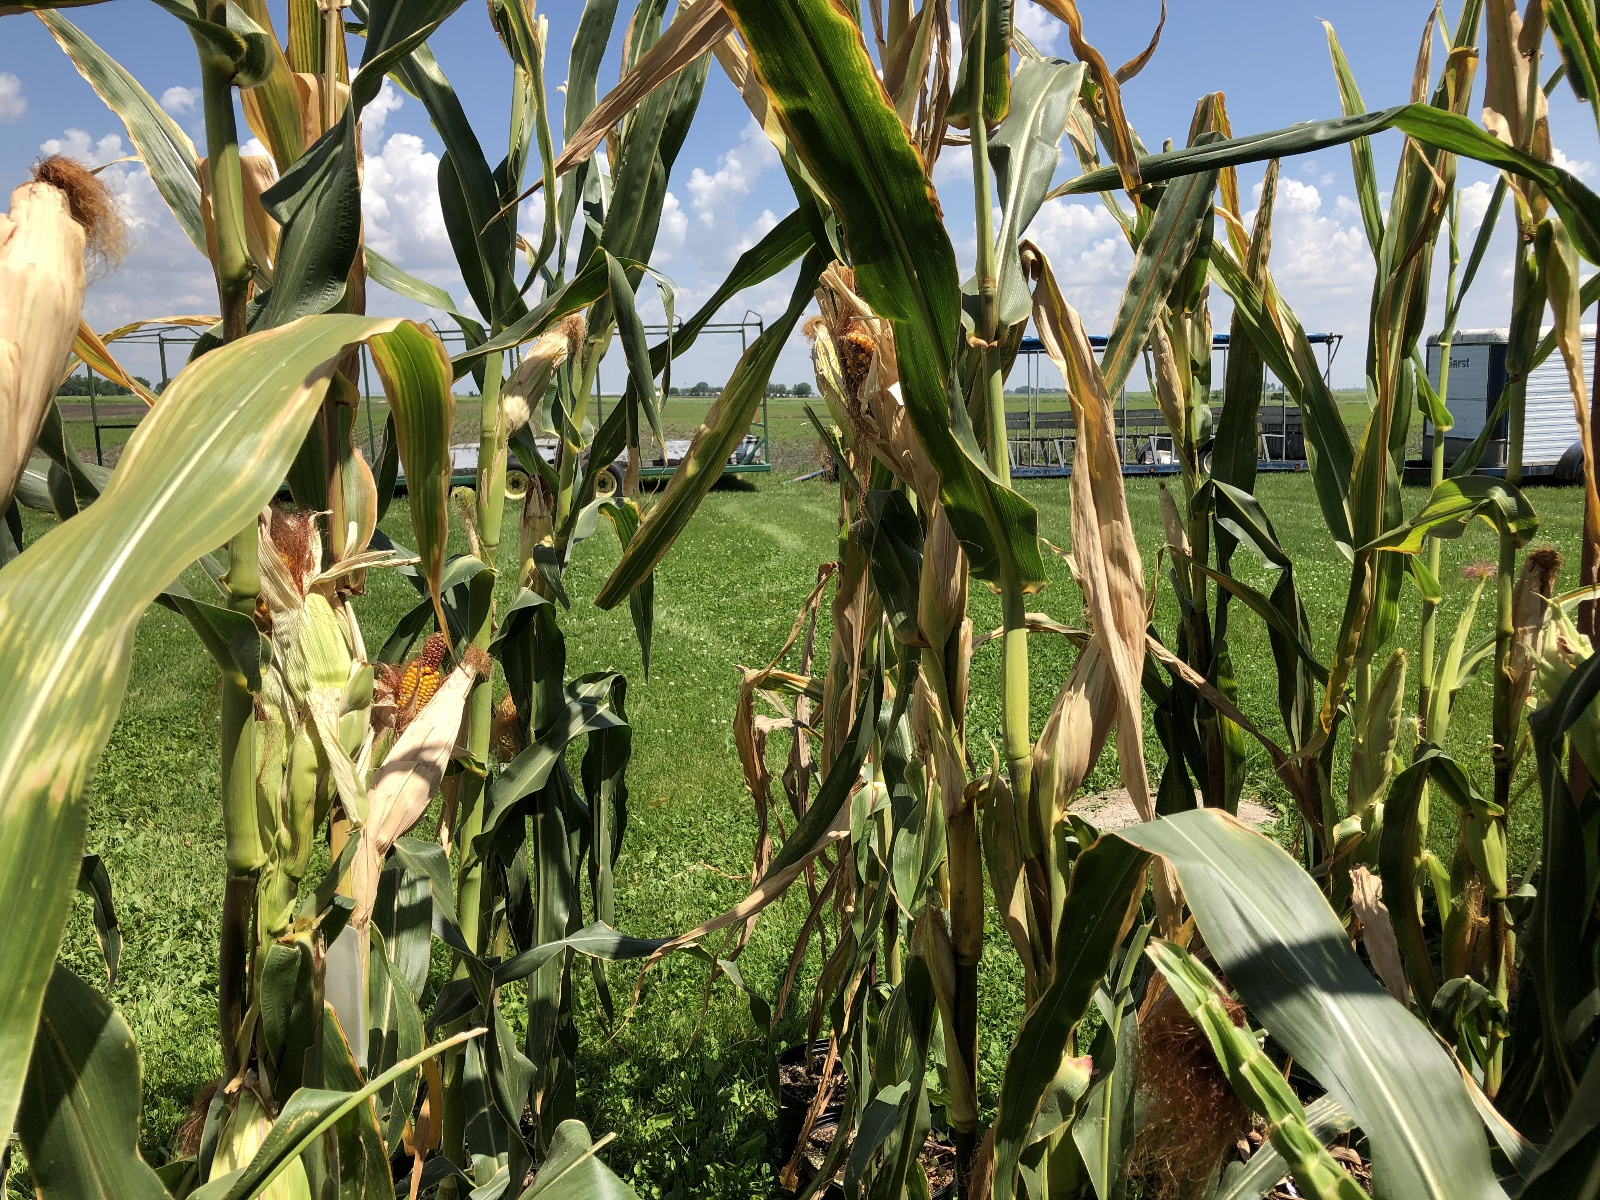ear: (4, 149, 106, 492), (358, 645, 498, 860), (1027, 615, 1148, 789), (242, 512, 353, 689), (821, 309, 929, 479), (1343, 642, 1414, 809), (499, 304, 585, 429), (1511, 541, 1569, 681), (393, 624, 455, 713)
